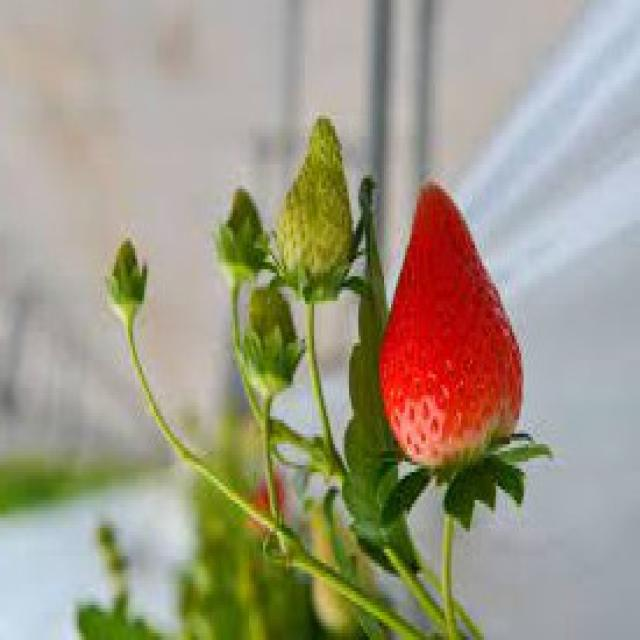immature: (278, 113, 354, 298)
mature: (376, 184, 524, 474)
